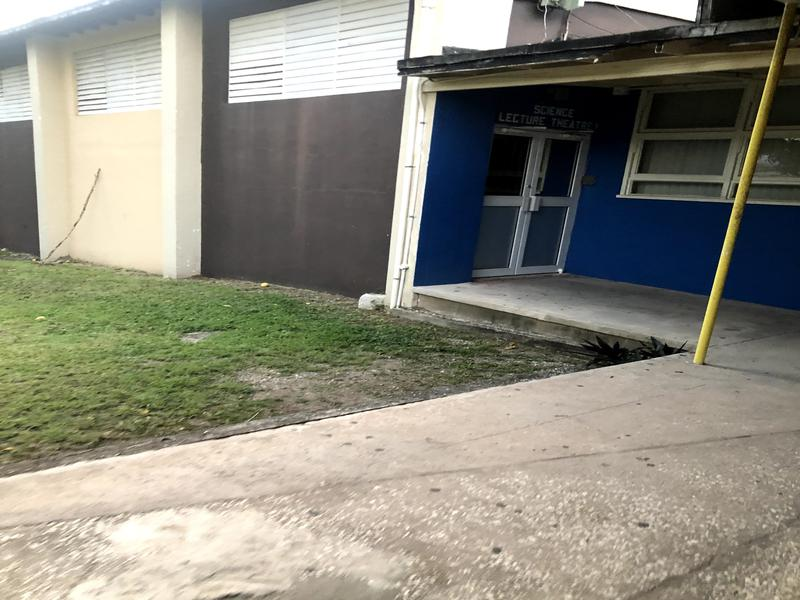18.0051836_-76.7497262_pclt1: (467, 109, 609, 298)
